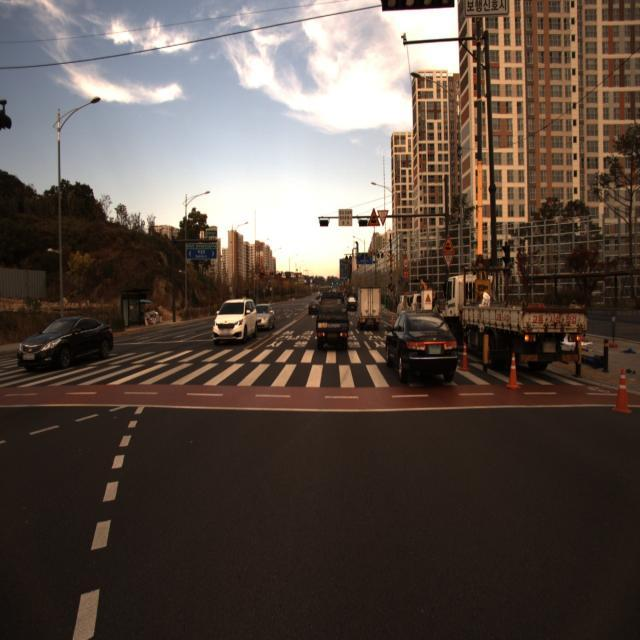crosswalk: (0, 348, 591, 387)
